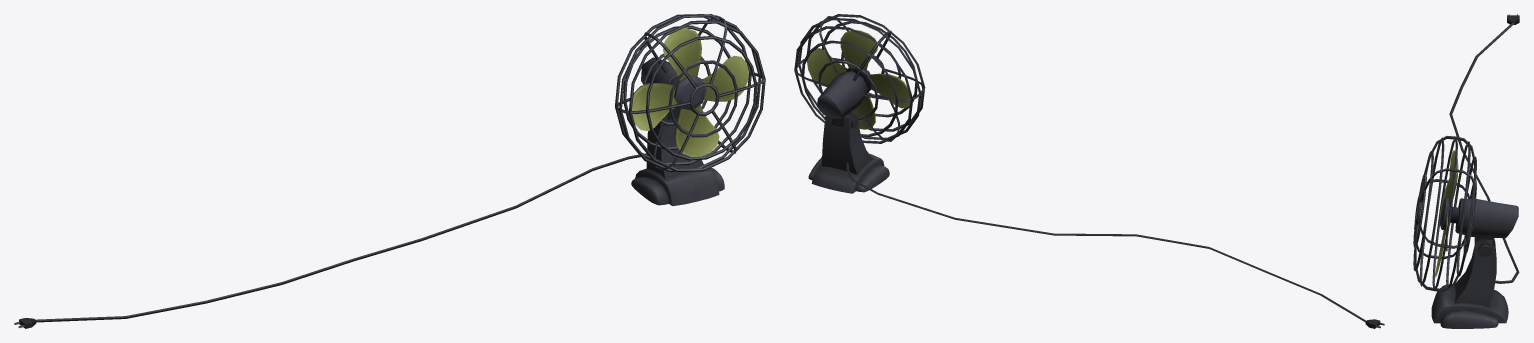
Rendered from ShenFuXiuXiShi_01_dianfengshan_01.FBX.
The picture shows the model from 3 angles, left to right: view 1: azimuth 30°, elevation 25°; view 2: azimuth 150°, elevation 25°; view 3: azimuth 270°, elevation 25°; orthographic projection. The views are drawn at different scales.
Visible parts, largest first — view 1: ShenFuXiuXiShi_01_dianfengshan_01; view 2: ShenFuXiuXiShi_01_dianfengshan_01; view 3: ShenFuXiuXiShi_01_dianfengshan_01.
Part boxes in pixels (bbox=[...]): ShenFuXiuXiShi_01_dianfengshan_01: bbox=[14, 14, 765, 328]; ShenFuXiuXiShi_01_dianfengshan_01: bbox=[794, 14, 1384, 328]; ShenFuXiuXiShi_01_dianfengshan_01: bbox=[1413, 14, 1519, 328].
Size of the model in its own units: 1652 by 398 by 224.
